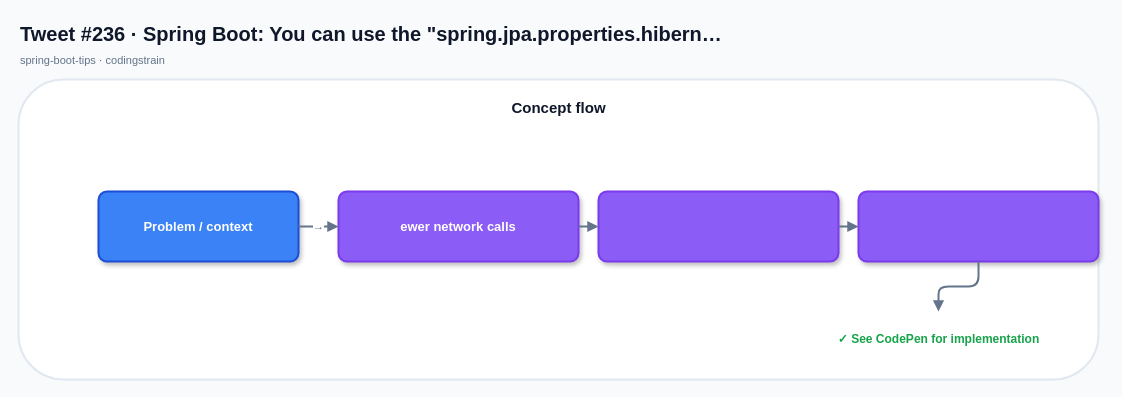
The diagram is 1122 pixels wide and 397 high, and some of its shapes have lost their labels. The centre of each missing label's shape, as x and y in pixels:
aster bulk operations: (979,227)
ess JDBC overhead: (719,227)
